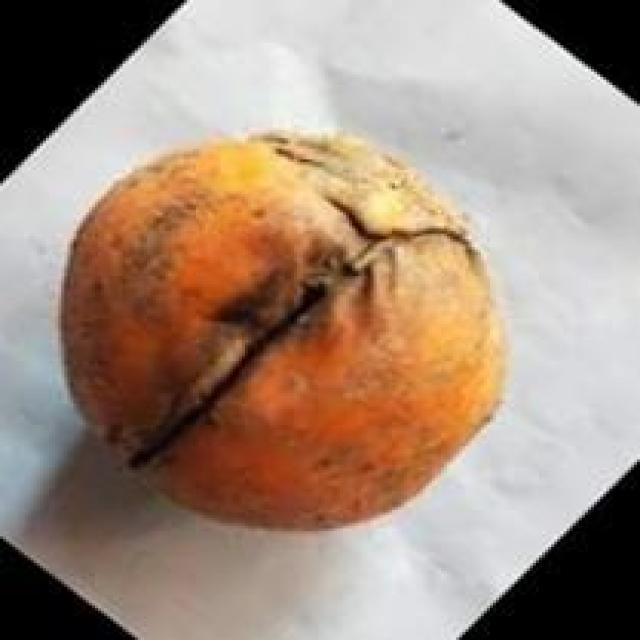damaged: (58, 130, 511, 536)
